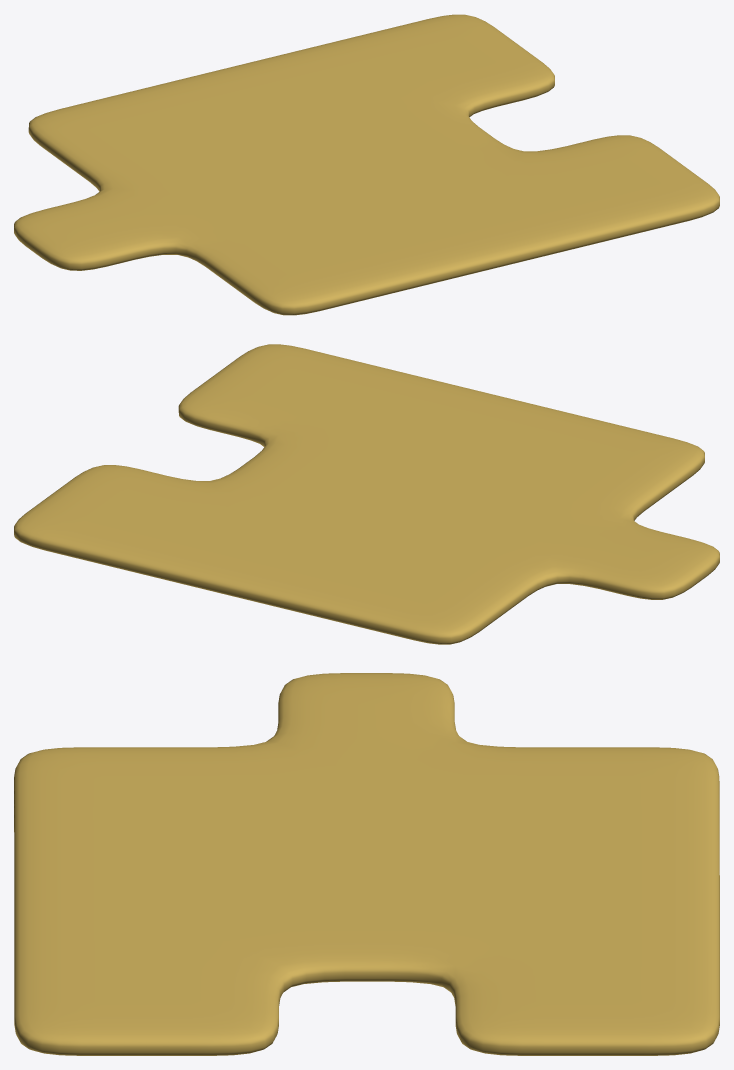
Rendered from GoldenPuzzle-15-OMOF.fbx.
The picture shows the model from 3 angles, top to bottom: view 1: azimuth 30°, elevation 25°; view 2: azimuth 150°, elevation 25°; view 3: azimuth 270°, elevation 25°; orthographic projection. The views are drawn at different scales.
Parts seen in each view (by area): view 1: Puzzle_015; view 2: Puzzle_015; view 3: Puzzle_015.
Part boxes in pixels (x1,y1,x2,y2): Puzzle_015: (14,14,719,315); Puzzle_015: (14,344,719,644); Puzzle_015: (14,673,719,1055).
Bounding box in the file's own units: 0.3125 × 0.00924 × 0.2511.
